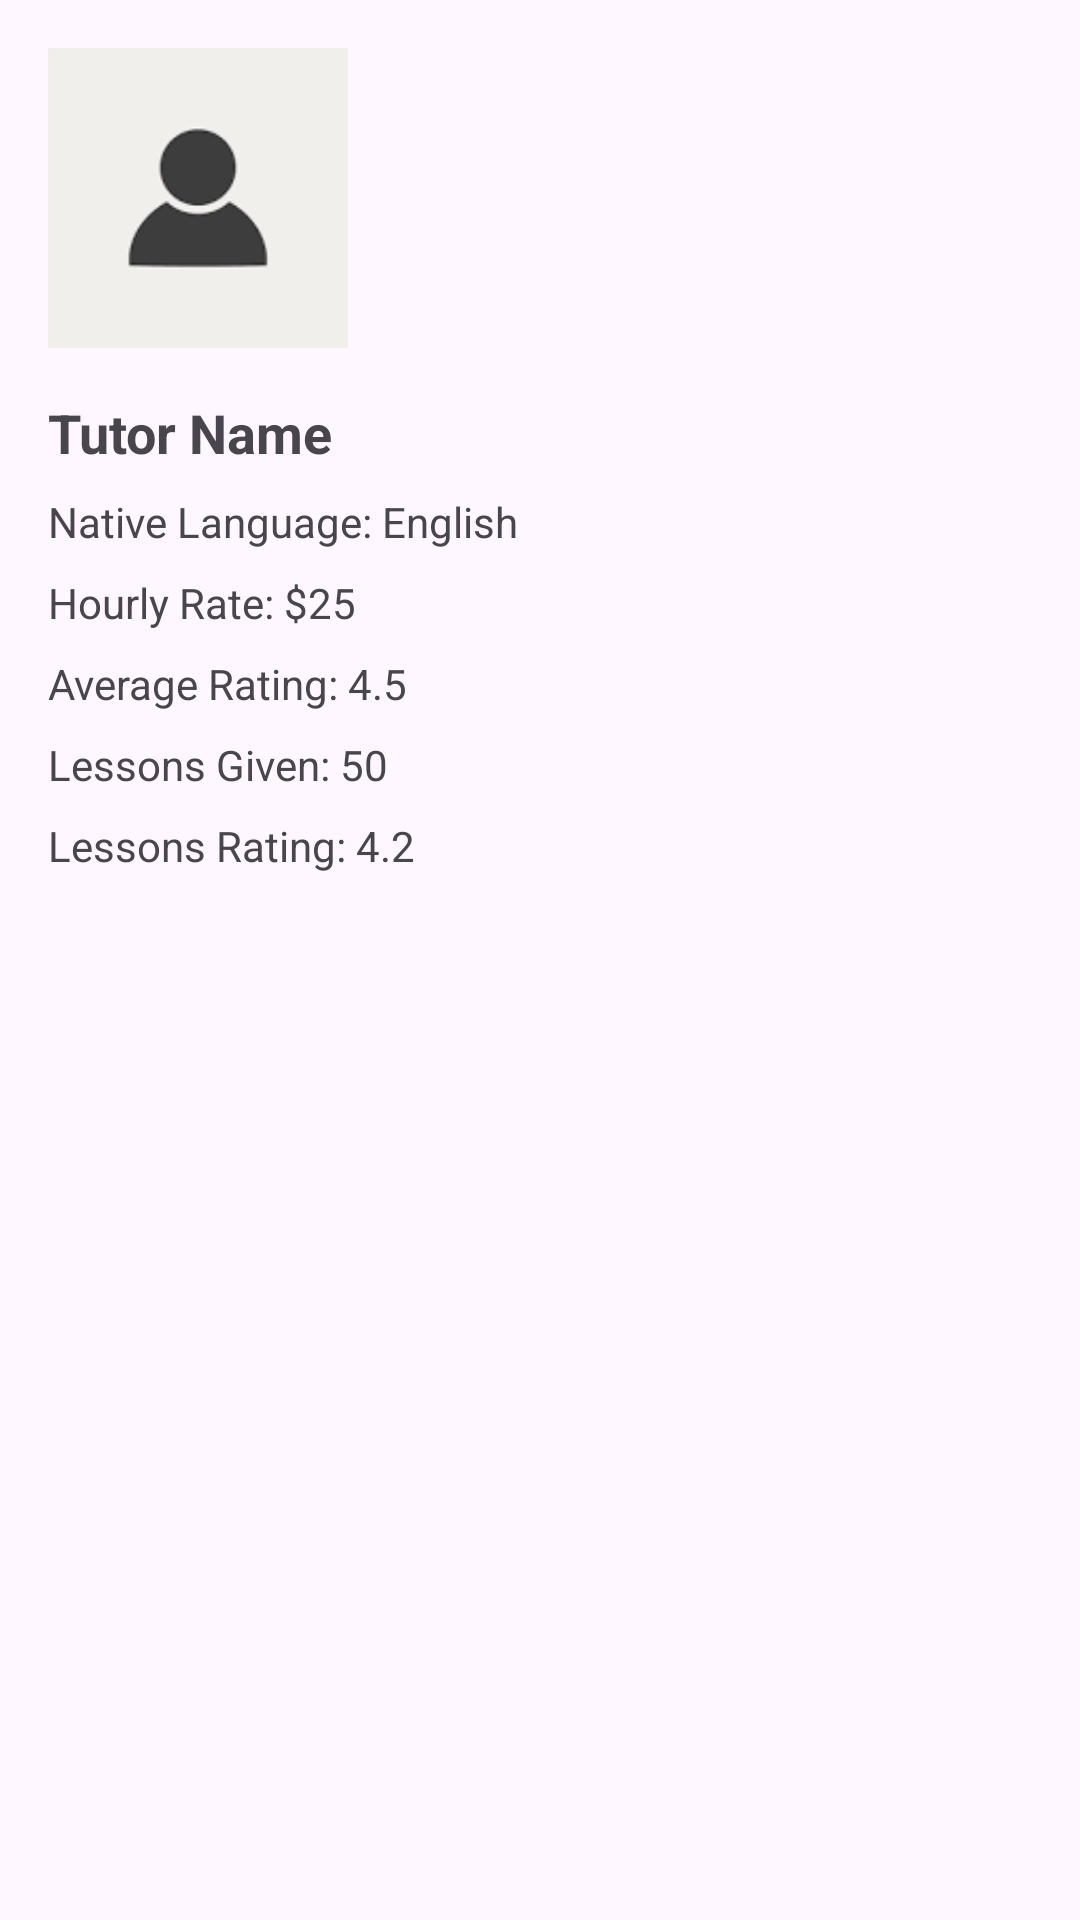

Point at icon controls on the screen. Image size 1080 × 1920, points as [x,y].
placeholderprofile: [198,198]
